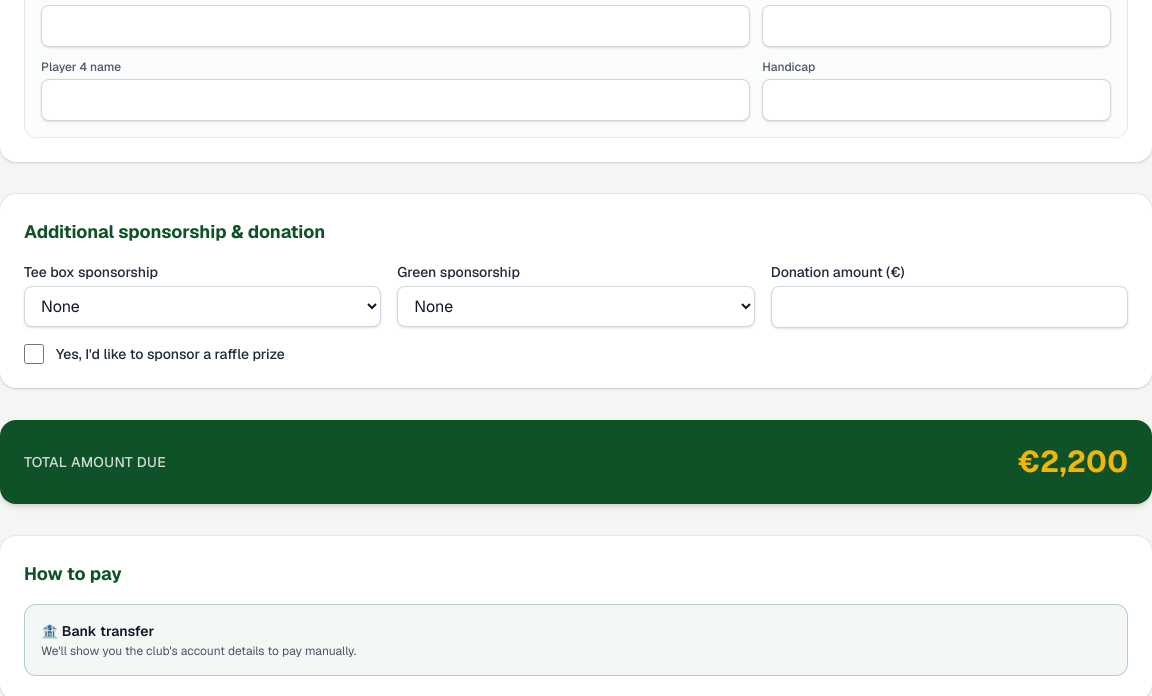
Test: RegistrationForm — the entry itself › reveals the prize box only once a raffle prize is offered
(page scrolled)
Click the checkbox labelled "Yes, I'd like to sponsor a raffle prize": (34, 354) [24,344,44,364]
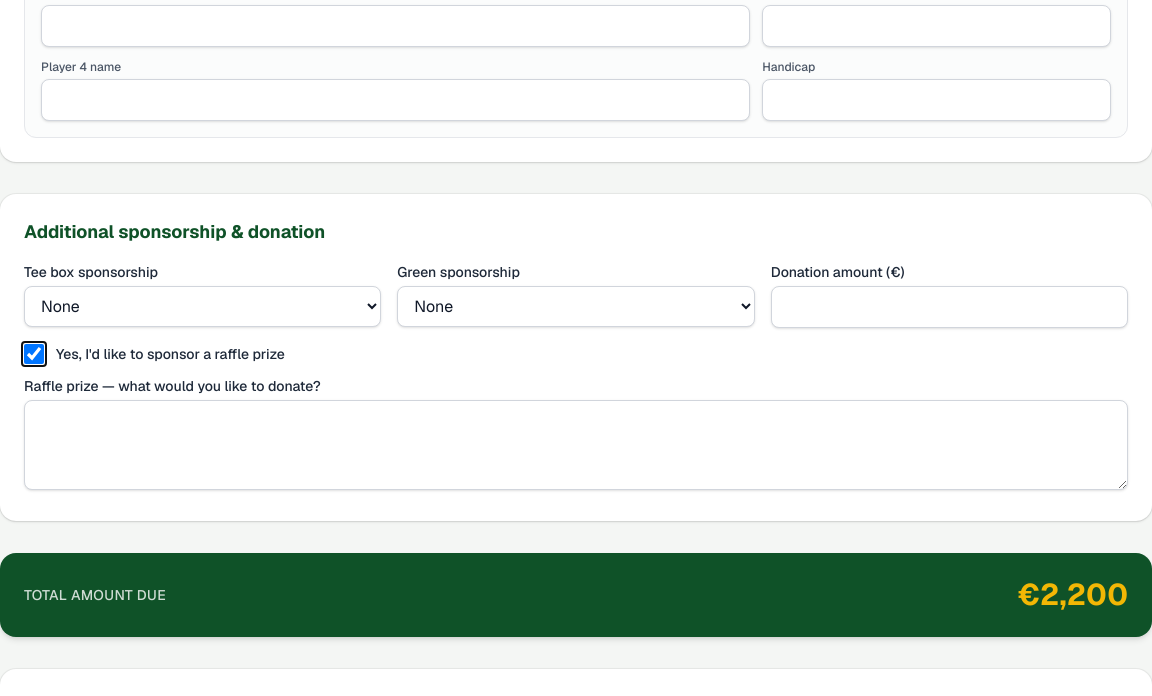
Result: the text box labelled "Raffle prize — what would you like to donate?" is shown at [24,400,1128,490]
